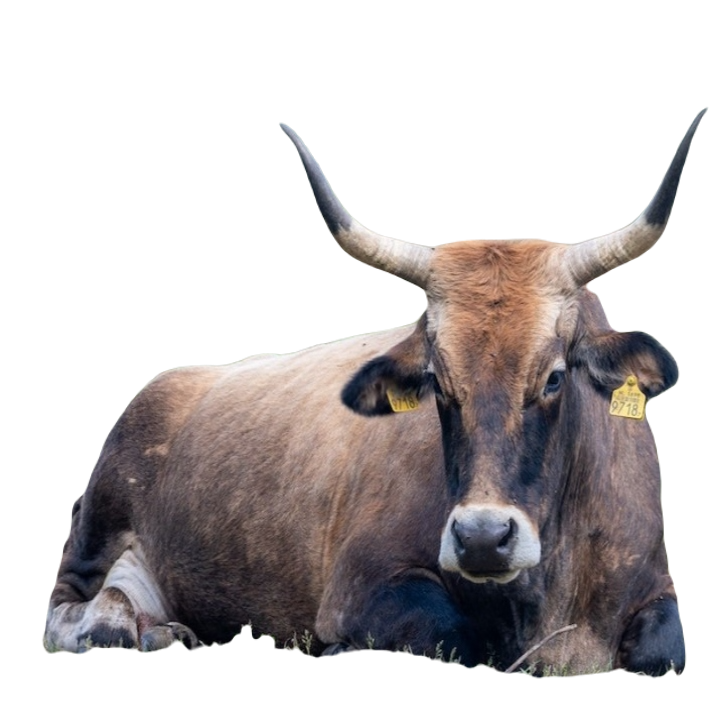Cow: (45, 108, 707, 679)
